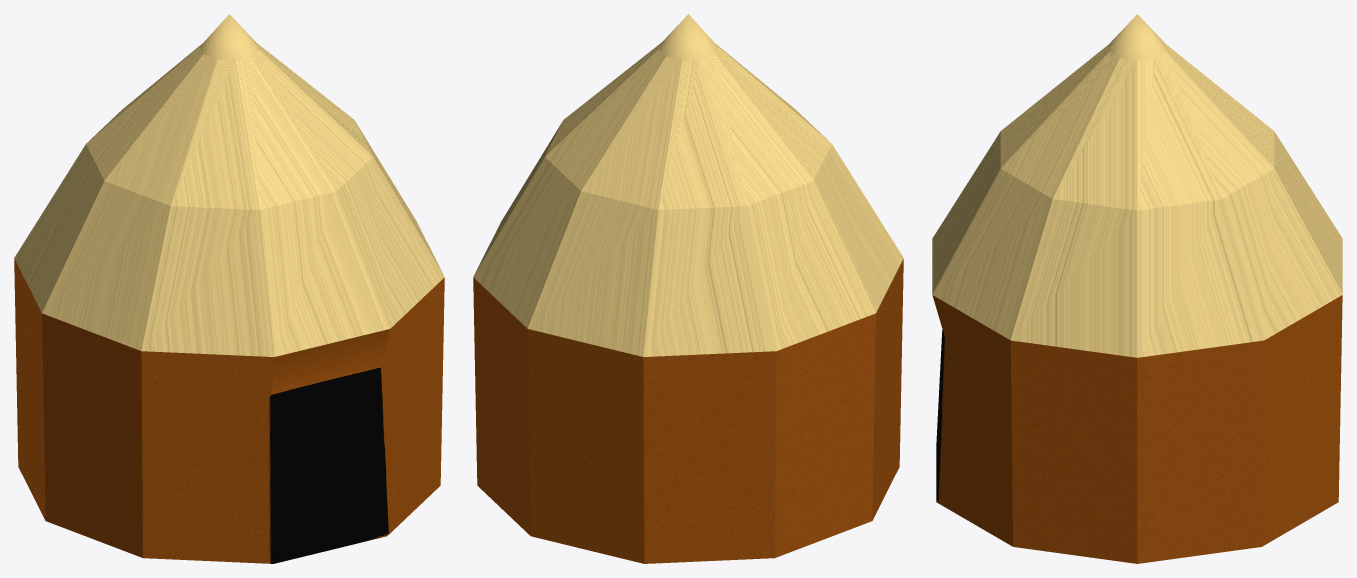
The model's file is Hut.fbx.
3 renders of one model, left to right at view 1: azimuth 30°, elevation 25°; view 2: azimuth 150°, elevation 25°; view 3: azimuth 270°, elevation 25°, orthographic.
Visible parts, largest first — view 1: hut:pCylinder1; view 2: hut:pCylinder1; view 3: hut:pCylinder1.
Part boxes in pixels (x1,y1,x2,y2): hut:pCylinder1: [14, 14, 444, 563]; hut:pCylinder1: [473, 14, 903, 563]; hut:pCylinder1: [932, 14, 1342, 563].
Bounding box in the file's own units: 11.05 × 13.02 × 10.51.
